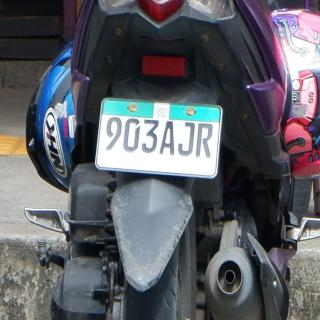license: (96, 99, 224, 179)
